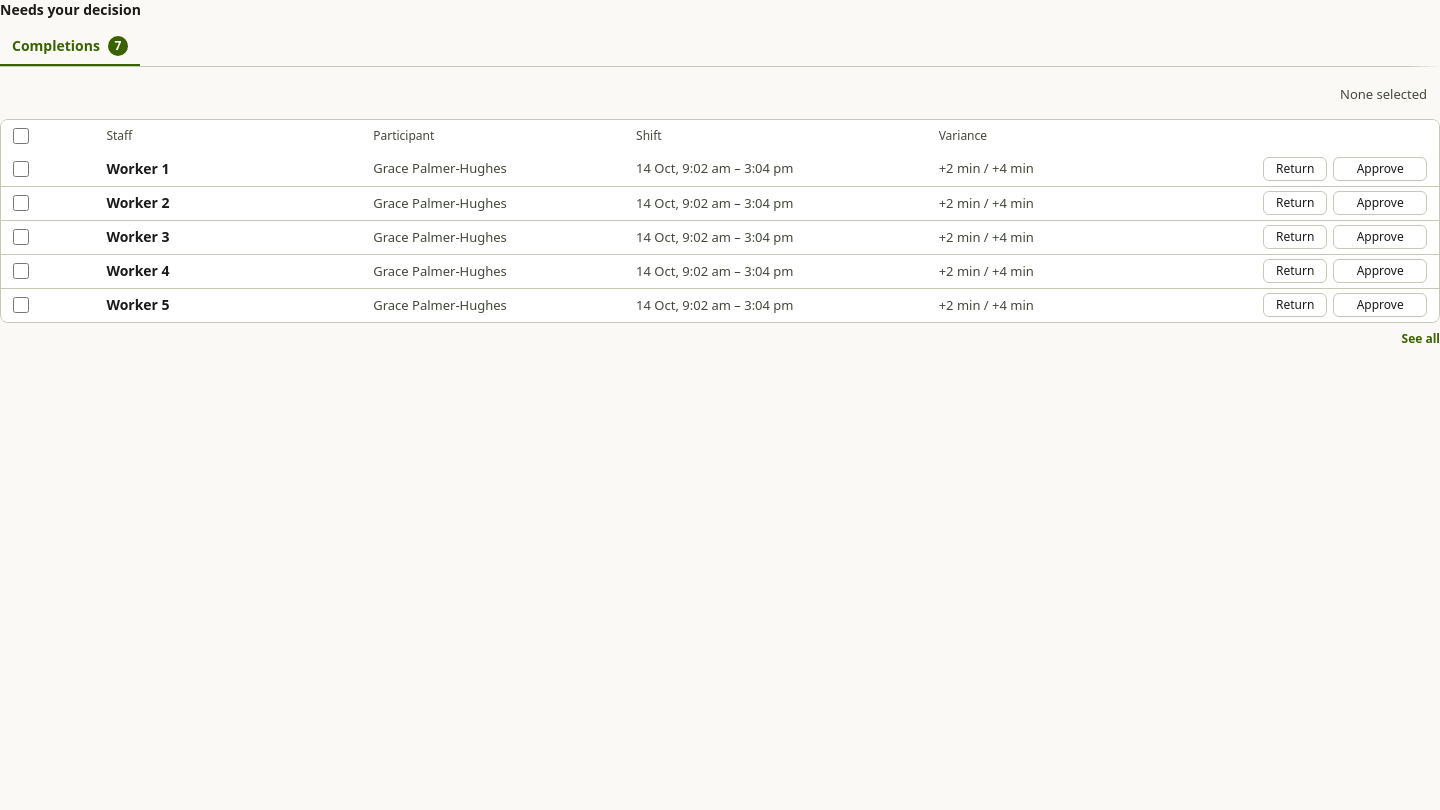
Test case: Shift completions group — Complete all (decision-bulk) › sends exactly the five selected shown IDs, not a hidden sixth, and preserves literal per-item partial results
The width and height of the screenshot is (1440, 810).
Click the checkbox named "Select all shown shift completions": (21, 136) [13,128,29,144]
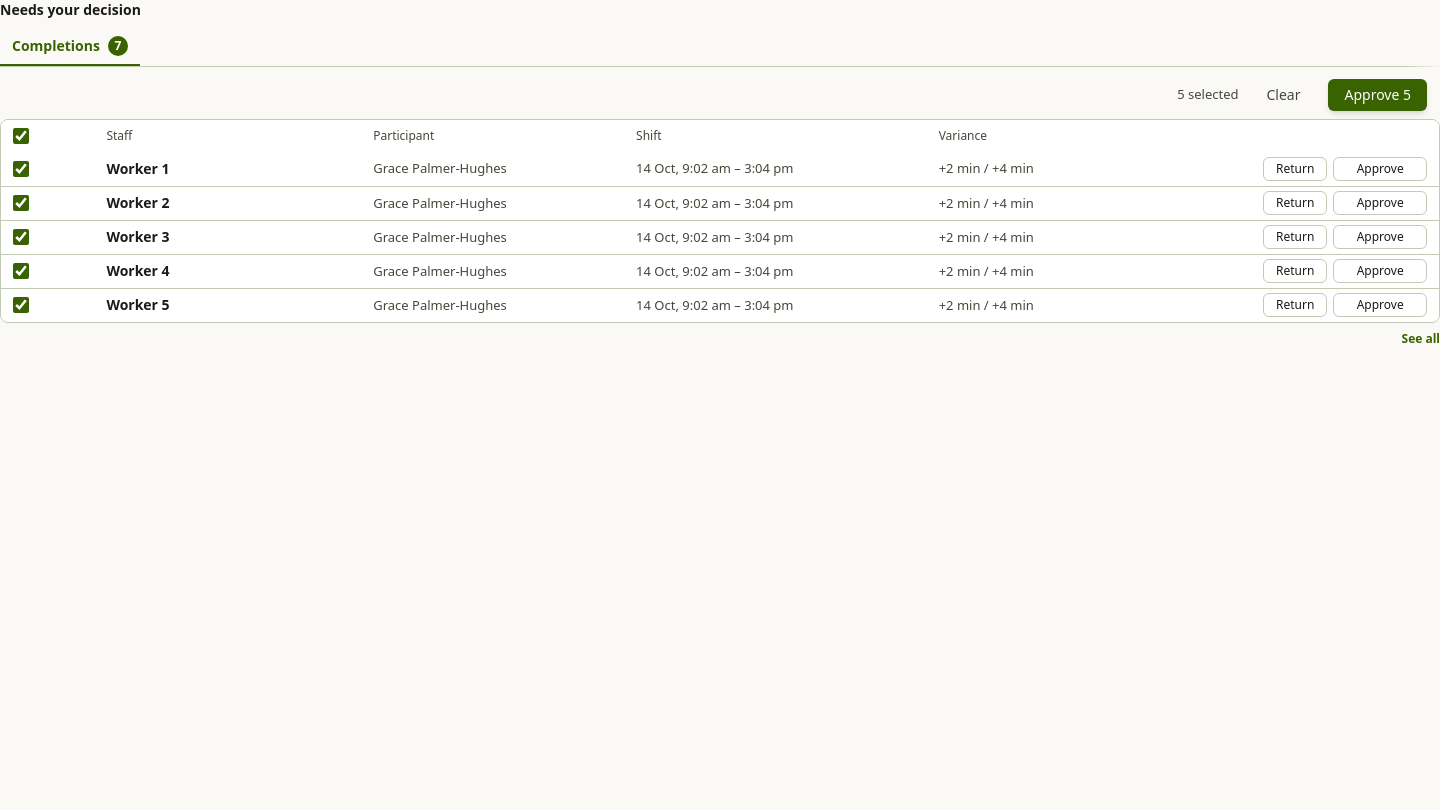
Click the button with aria-label "Approve 5 selected shift completions": (1378, 95) [1328,79,1427,111]
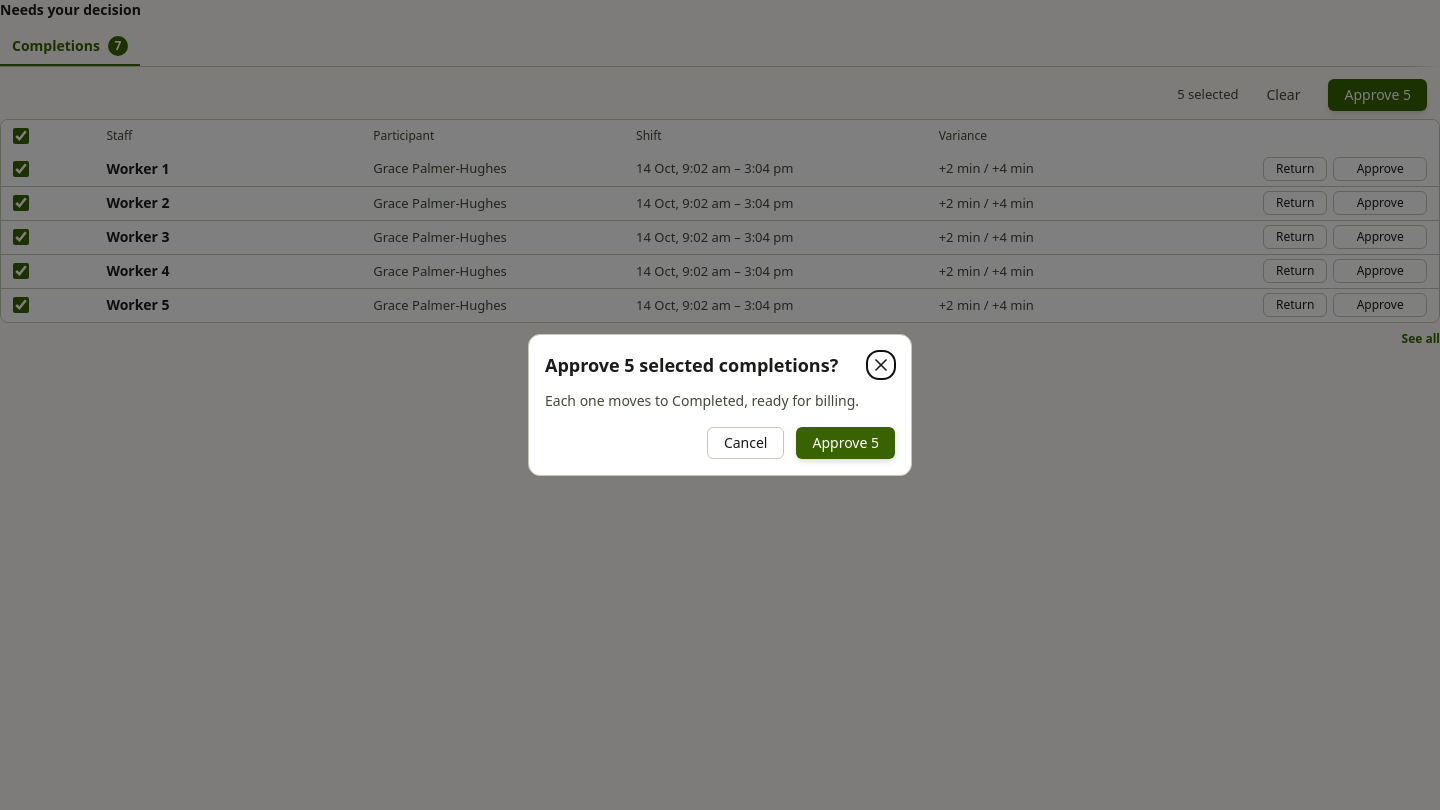
Expected: the dialog shows "Approve 5 selected completions?", [545,353,838,377]
Click the button "Approve 5": (846, 443) [796,427,895,459]
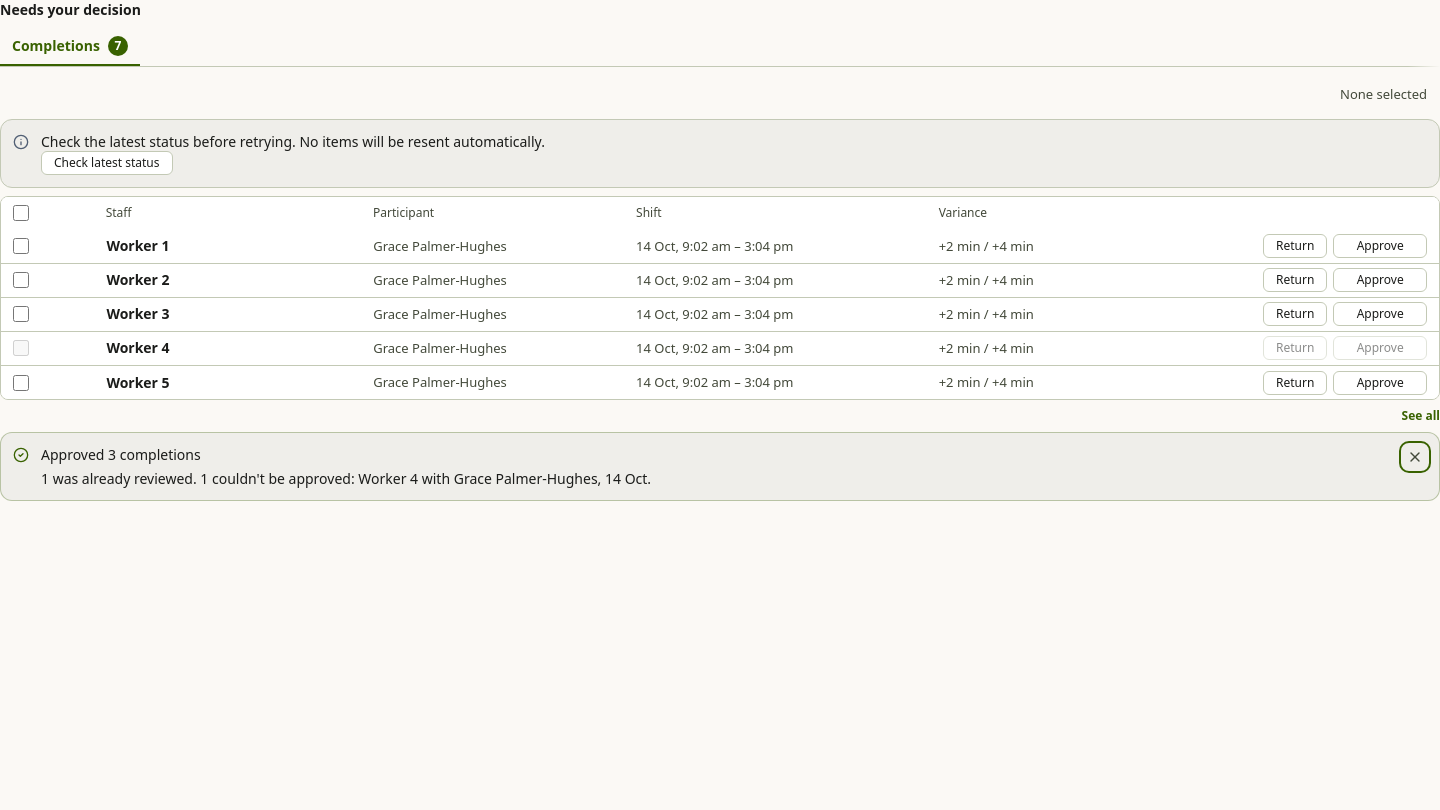
Expected: the text "Approved 3 completions" is shown, [41,445,201,464]
Expected: the text "1 was already reviewed. 1 couldn't be approved: Worker 4 with Grace Palmer-Hughes, 14 Oct." is shown, [41,468,651,488]
